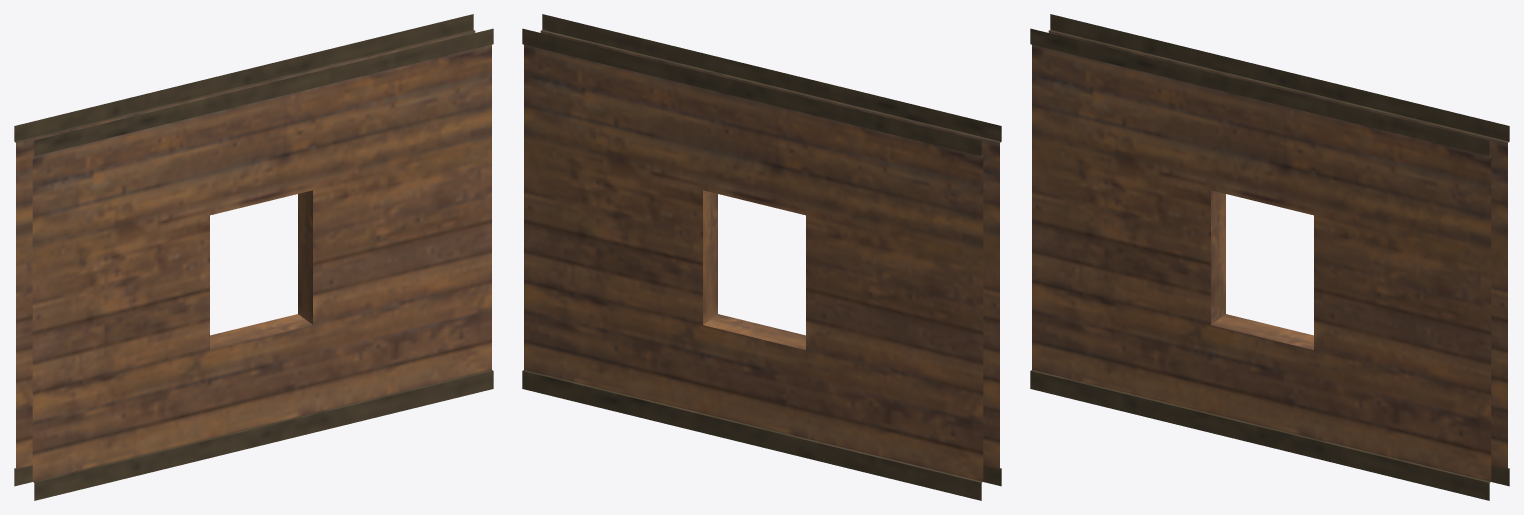
File: MS_Wallpiece_Window.fbx
3 views of the same model, side by side, from view 1: azimuth 30°, elevation 25°; view 2: azimuth 150°, elevation 25°; view 3: azimuth 330°, elevation 25° (orthographic).
Parts seen in each view (by area): view 1: Cube; view 2: Cube; view 3: Cube.
Part boxes in pixels (x1,y1,x2,y2): Cube: (14,14,493,500); Cube: (522,14,1001,500); Cube: (1030,14,1509,500).
Size of the model in its own units: 800 by 600 by 60.
